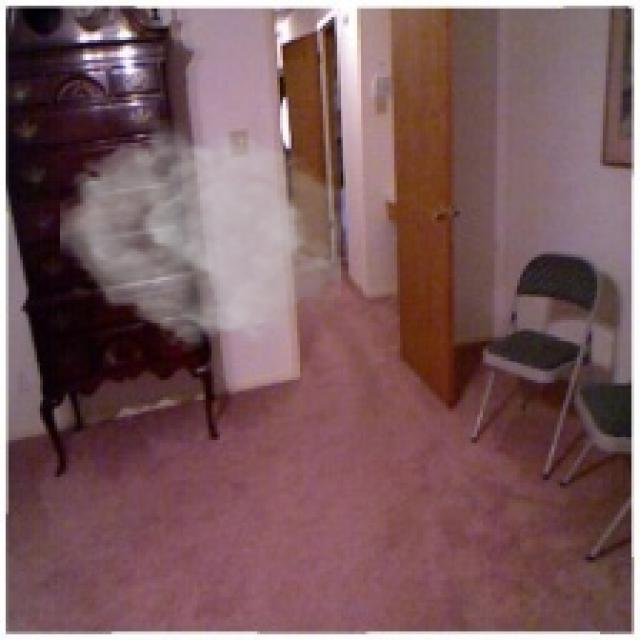smoke: (60, 117, 340, 354)
